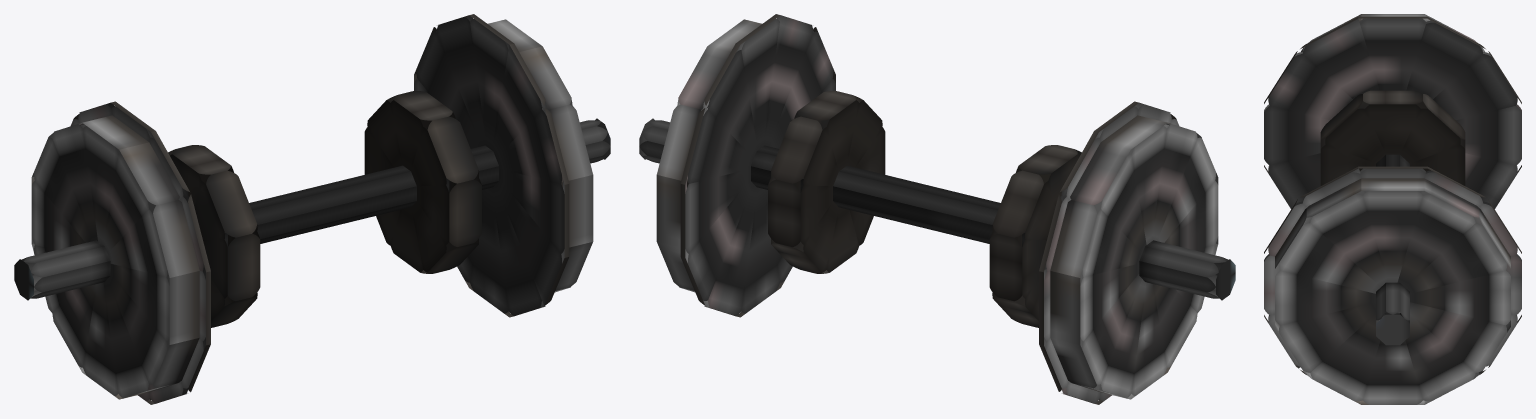
Rendered from sw160_wheel.obj.
3 views of the same model, side by side, from view 1: azimuth 30°, elevation 25°; view 2: azimuth 150°, elevation 25°; view 3: azimuth 270°, elevation 25° (orthographic). The views are drawn at different scales.
Parts seen in each view (by area): view 1: cylinder; view 2: cylinder; view 3: cylinder.
Part boxes in pixels (x1,y1,x2,y2): cylinder: (14,14,610,404); cylinder: (639,14,1235,404); cylinder: (1264,14,1521,404).
Bounding box in the file's own units: 2.21 × 1 × 1.
